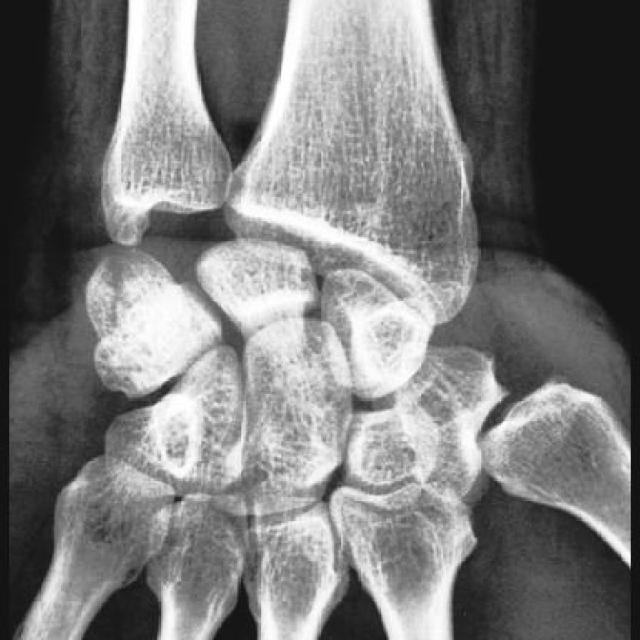Fracture: (74, 248, 165, 362)
